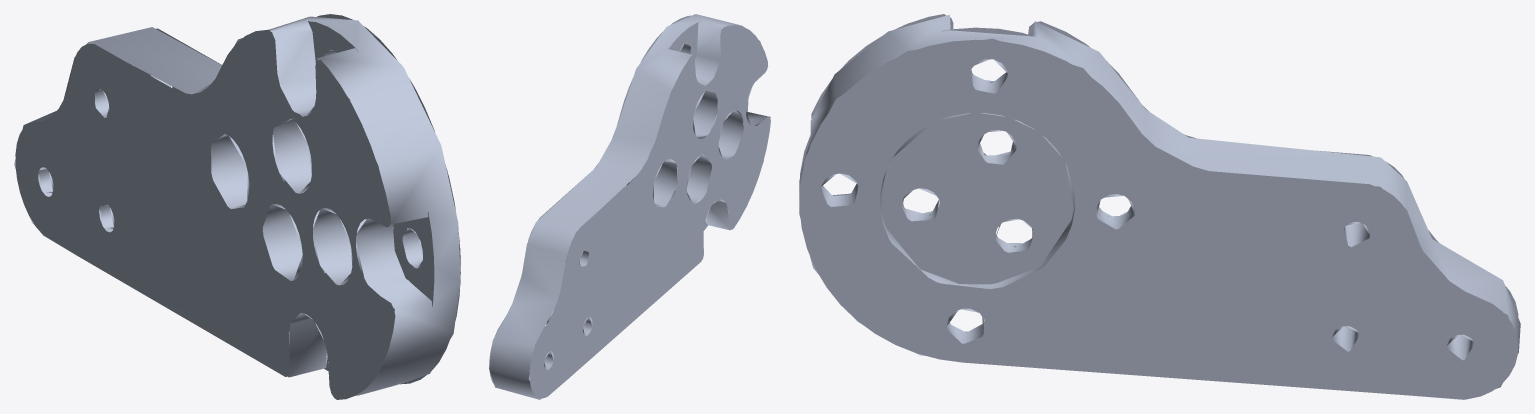
Rendered from finger_outter_03.obj.
3 views of the same model, side by side, from view 1: azimuth 30°, elevation 25°; view 2: azimuth 150°, elevation 25°; view 3: azimuth 270°, elevation 25° (orthographic). The views are drawn at different scales.
Parts seen in each view (by area): view 1: finger_outter_03; view 2: finger_outter_03; view 3: finger_outter_03.
Part boxes in pixels (left/top/right/bottom): finger_outter_03: left=14, top=14, right=460, bottom=399; finger_outter_03: left=489, top=14, right=770, bottom=399; finger_outter_03: left=799, top=14, right=1520, bottom=399.
Size of the model in its own units: 0.00603 by 0.0346 by 0.0627.
